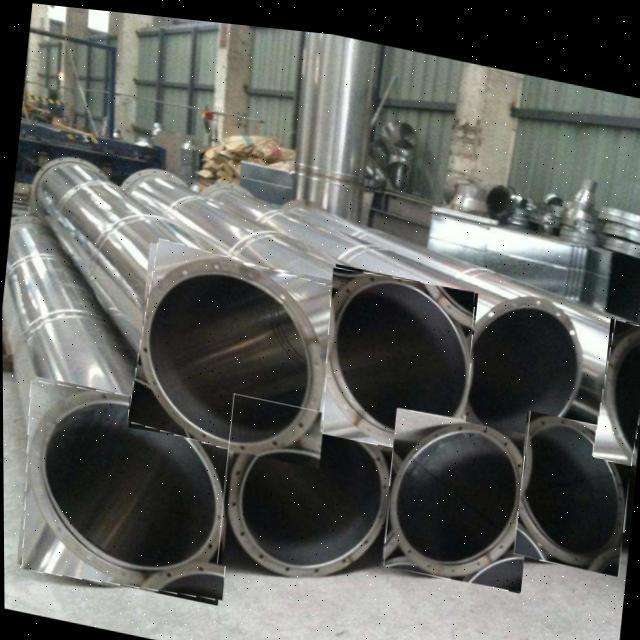pipe: (126, 234, 341, 465), (20, 380, 230, 596), (216, 388, 397, 589), (322, 259, 474, 448), (383, 400, 533, 580), (464, 274, 590, 438), (512, 399, 633, 563), (591, 305, 640, 452)
